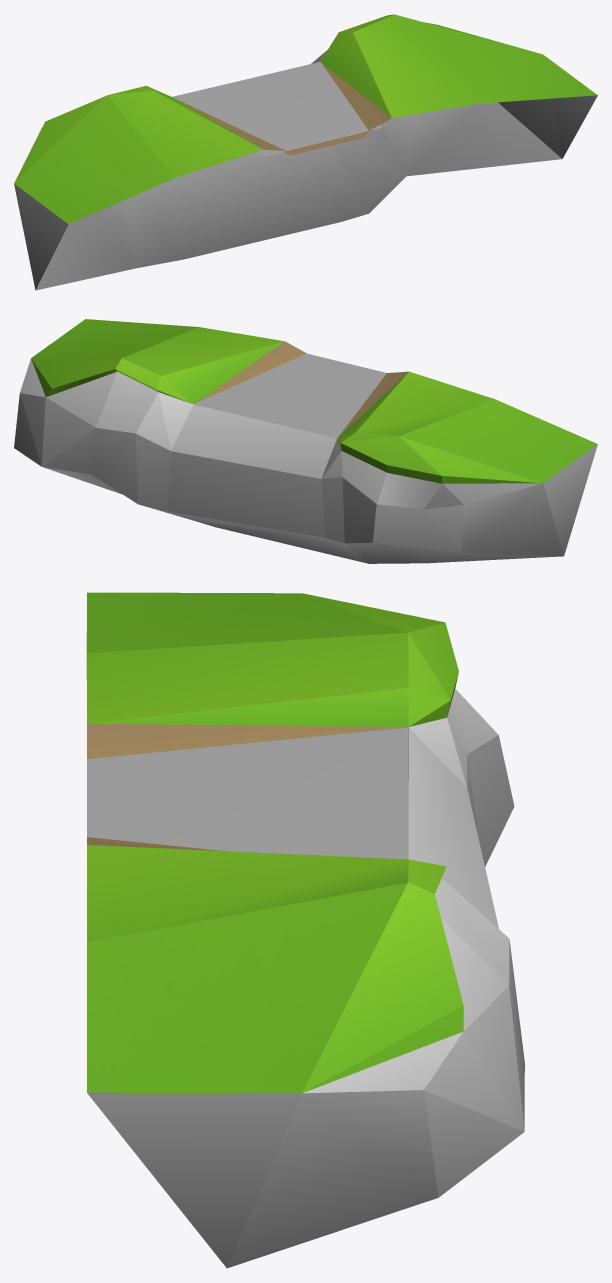
Rendered from Creek_EndWaterfall.fbx.
3 renders of one model, top to bottom at view 1: azimuth 30°, elevation 25°; view 2: azimuth 150°, elevation 25°; view 3: azimuth 270°, elevation 25°, orthographic. The views are drawn at different scales.
Parts seen in each view (by area): view 1: Creek4, Creek4_Water; view 2: Creek4, Creek4_Water; view 3: Creek4, Creek4_Water.
Part boxes in pixels (<box>): Creek4: <box>14,14,597,290</box>; Creek4_Water: <box>172,62,381,156</box>; Creek4: <box>14,319,597,563</box>; Creek4_Water: <box>194,353,386,438</box>; Creek4: <box>86,592,525,1268</box>; Creek4_Water: <box>87,727,408,859</box>.
Size of the model in its own units: 19.94 by 6.21 by 7.38.
